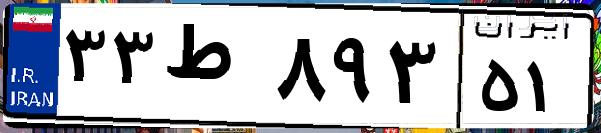1: (525, 38, 570, 115)
3: (385, 28, 445, 110), (57, 26, 110, 100), (110, 28, 158, 98)
5: (475, 38, 525, 113)
8: (270, 28, 330, 110)
9: (330, 28, 385, 110)
ط: (158, 20, 270, 120)
